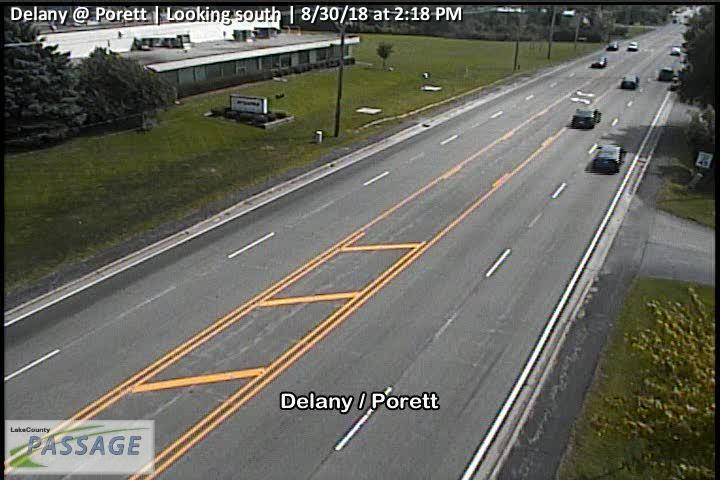SUV: (573, 107, 601, 128)
Sedan: (593, 144, 628, 173), (622, 74, 640, 88), (591, 56, 608, 68), (659, 67, 673, 80), (606, 40, 619, 50), (671, 44, 681, 55), (627, 41, 638, 50)
